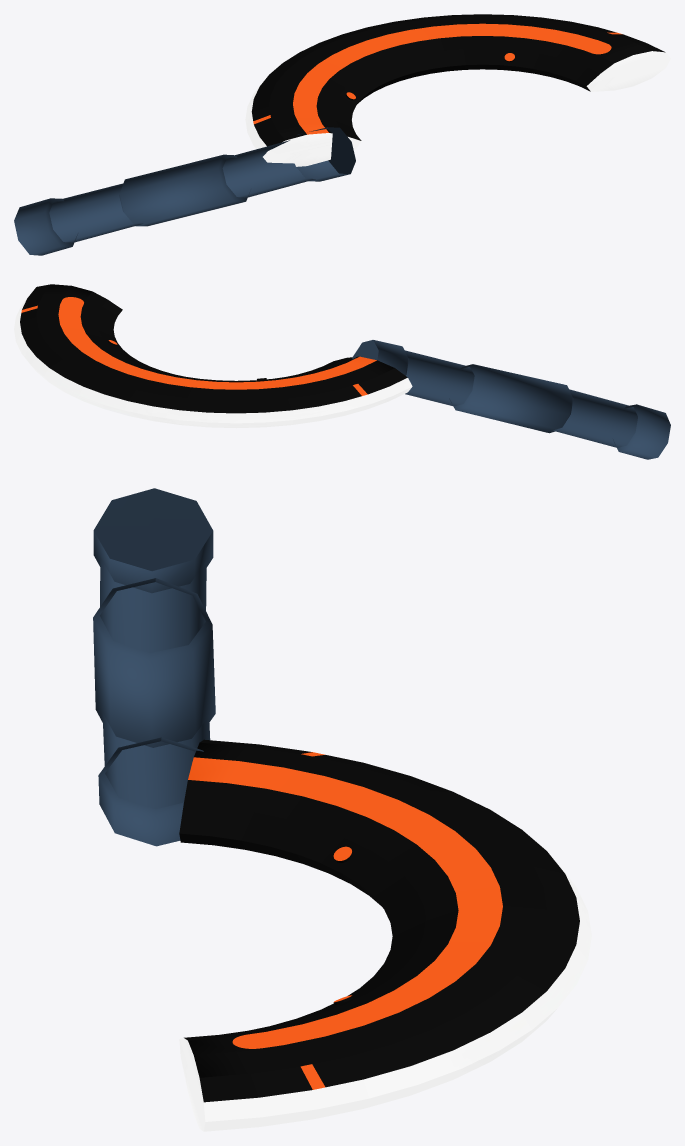
The model's file is arc_sword.glb.
3 renders of one model, top to bottom at view 1: azimuth 30°, elevation 25°; view 2: azimuth 150°, elevation 25°; view 3: azimuth 270°, elevation 25°, orthographic. The views are drawn at different scales.
Visible parts, largest first — view 1: Torus.002; view 2: Torus.002; view 3: Torus.002.
Boxes of the visible parts, bbox=[...] form: Torus.002: bbox=[14, 14, 670, 255]; Torus.002: bbox=[14, 284, 670, 459]; Torus.002: bbox=[93, 488, 591, 1131].
Bounding box in the file's own units: 0.4716 × 0.0337 × 0.1659.
Materials: 4 (4 with a texture image).
